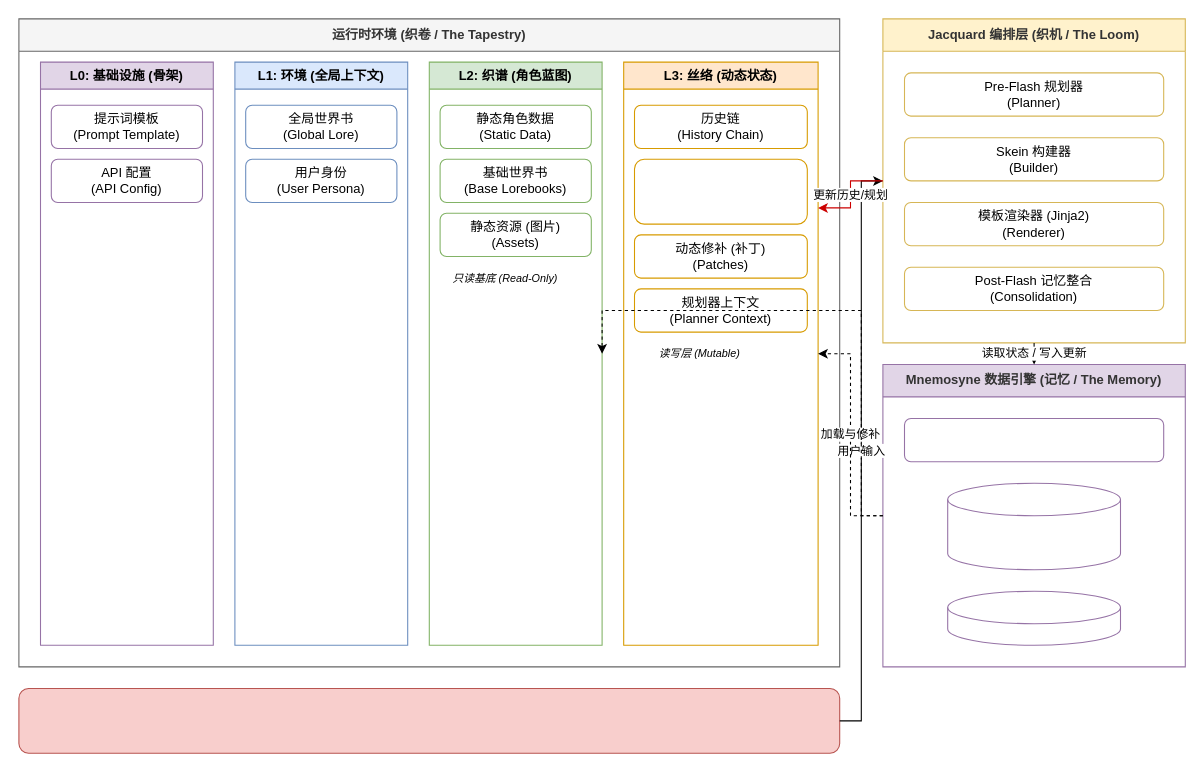
The diagram is 1204 pixels wide and 772 high, and some of its shapes have lost their labels. Here are the shapes that lost their labels. From the top down, the centre of each, then its label:
point 720,191: VWD 状态树 (State Tree)
point 1033,439: 上下文投影 (Context Projection)
point 1033,526: SQLite 混合存储 (Hybrid Storage)
point 1033,617: 向量存储 (RAG) (Vector Store)
point 429,720: 表现层 (舞台 / The Stage)
